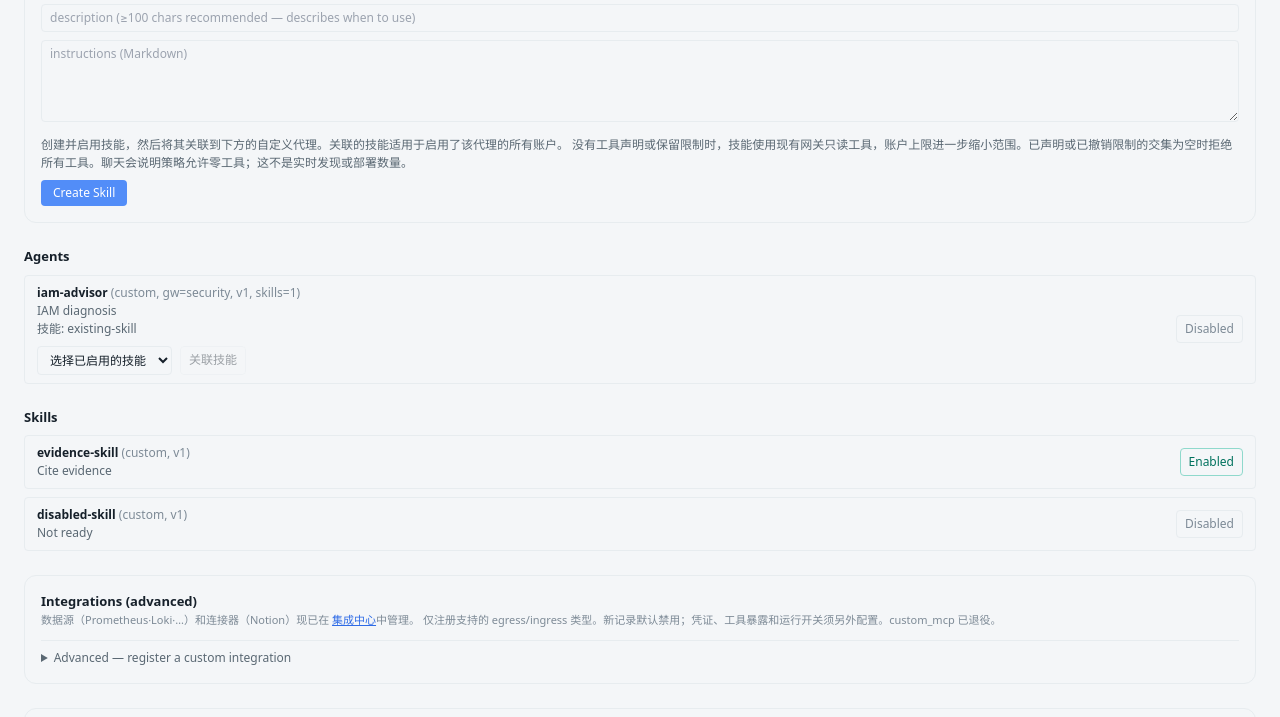
Test: custom agent registration › localizes attachment controls and failure feedback in zh
The width and height of the screenshot is (1280, 717).
(page scrolled)
Select "evidence-skill" in the dropdown named "用于 iam-advisor 的技能" at (104, 360), box [37,346,172,374]
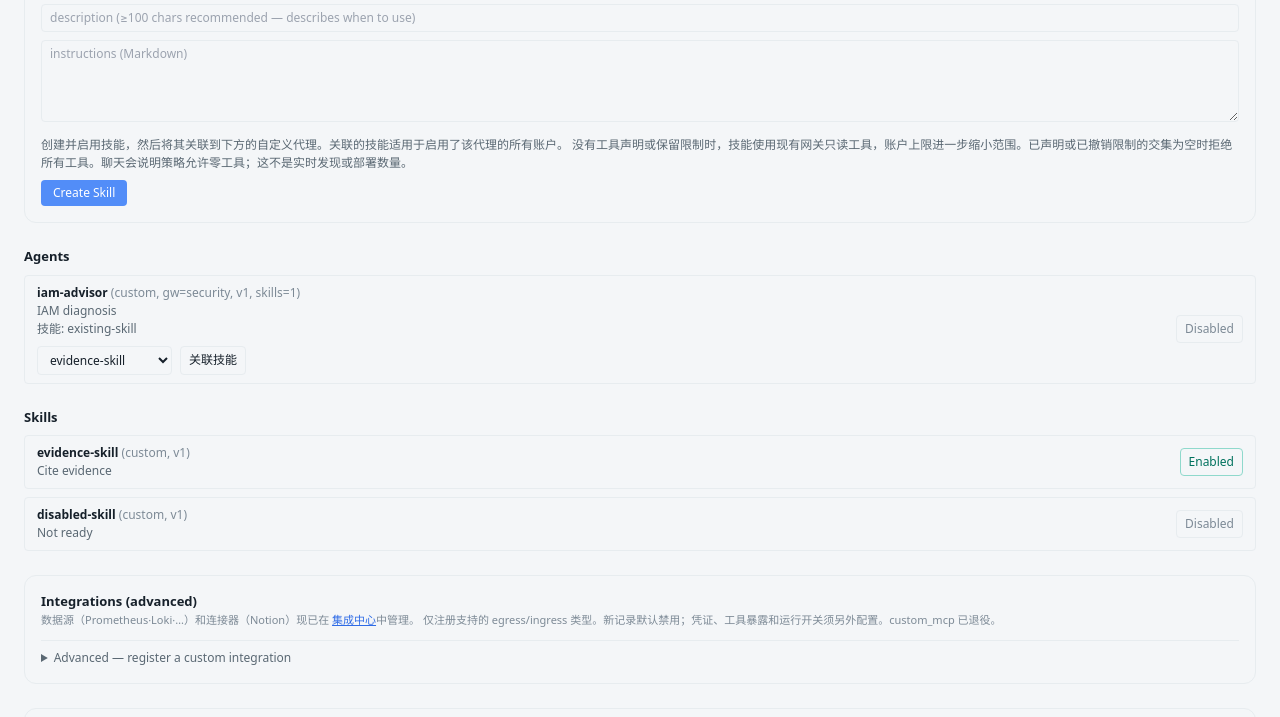
Click the button with aria-label "将技能关联到 iam-advisor".
click(213, 360)  # box [180,346,246,374]
(page scrolled)
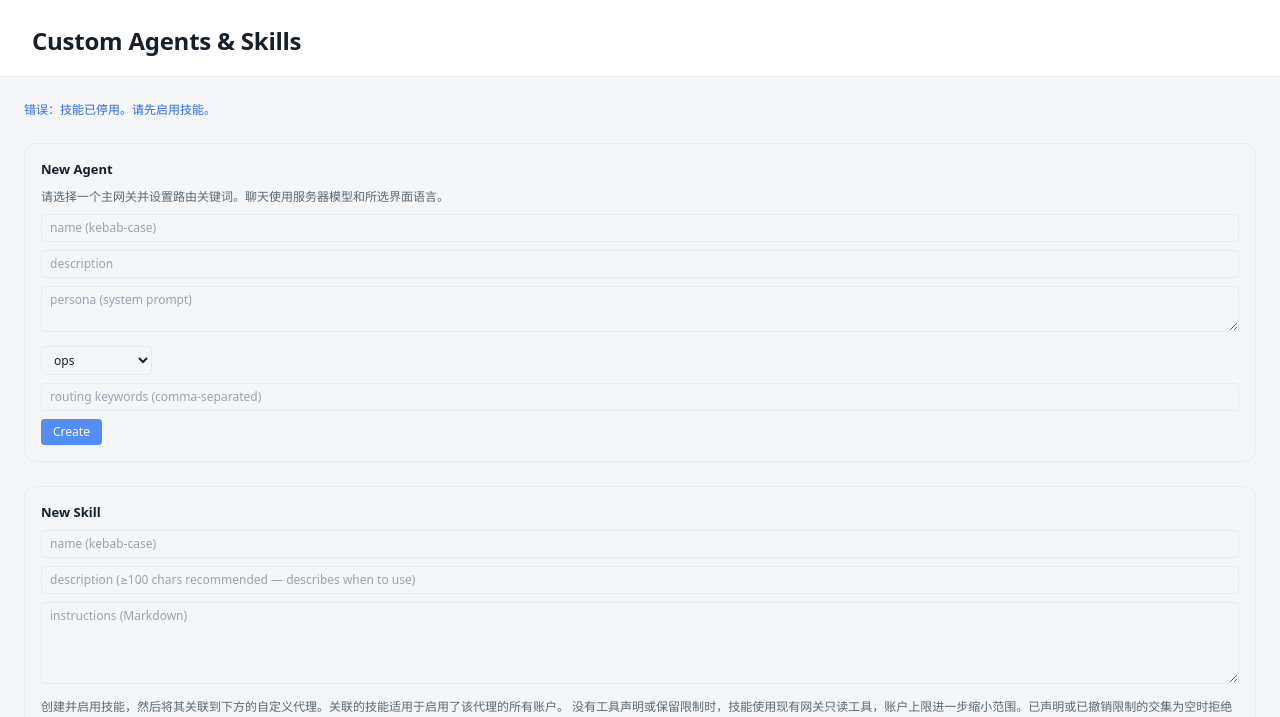
Check: the text "错误：技能已停用。请先启用技能。" is shown, box [24,101,216,118]
